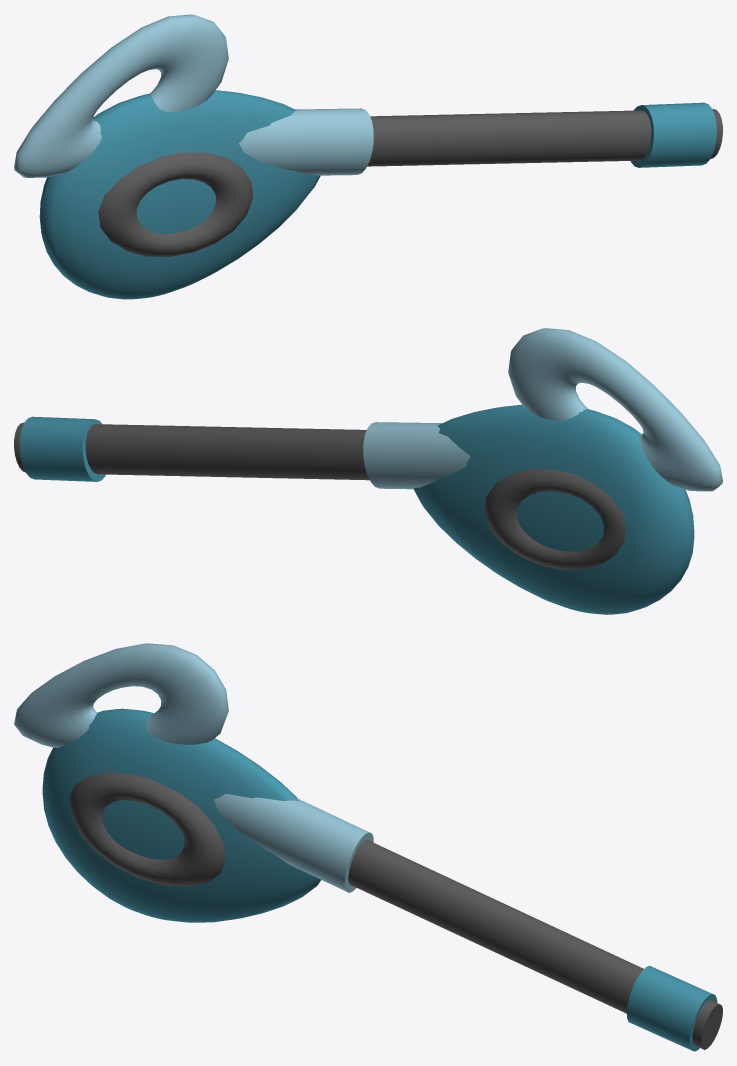
Rendered from leafblower.fbx.
3 views of the same model, one above another, from view 1: azimuth 30°, elevation 25°; view 2: azimuth 150°, elevation 25°; view 3: azimuth 330°, elevation 25° (orthographic).
Parts seen in each view (by area): view 1: pSphere1, pTorus3, pCylinder1, pTorus2, pCylinder2, pCylinder3; view 2: pSphere1, pCylinder1, pTorus3, pTorus2, pCylinder2, pCylinder3; view 3: pSphere1, pCylinder1, pTorus3, pTorus2, pCylinder2, pCylinder3.
Part boxes in pixels (left/top/right/bottom): pSphere1: left=39, top=90, right=320, bottom=299; pTorus3: left=14, top=14, right=228, bottom=177; pCylinder1: left=367, top=109, right=722, bottom=166; pTorus2: left=98, top=152, right=253, bottom=257; pCylinder2: left=239, top=108, right=373, bottom=175; pCylinder3: left=630, top=102, right=716, bottom=167; pSphere1: left=413, top=404, right=694, bottom=614; pCylinder1: left=14, top=422, right=369, bottom=480; pTorus3: left=508, top=328, right=722, bottom=491; pTorus2: left=484, top=469, right=626, bottom=570; pCylinder2: left=363, top=422, right=470, bottom=489; pCylinder3: left=19, top=416, right=105, bottom=481; pSphere1: left=42, top=708, right=320, bottom=922; pCylinder1: left=348, top=840, right=722, bottom=1049; pTorus3: left=14, top=643, right=228, bottom=747; pTorus2: left=69, top=772, right=225, bottom=886; pCylinder2: left=214, top=794, right=373, bottom=892; pCylinder3: left=626, top=965, right=717, bottom=1051.
Size of the model in its own units: 21.9 by 8.22 by 2.23.
